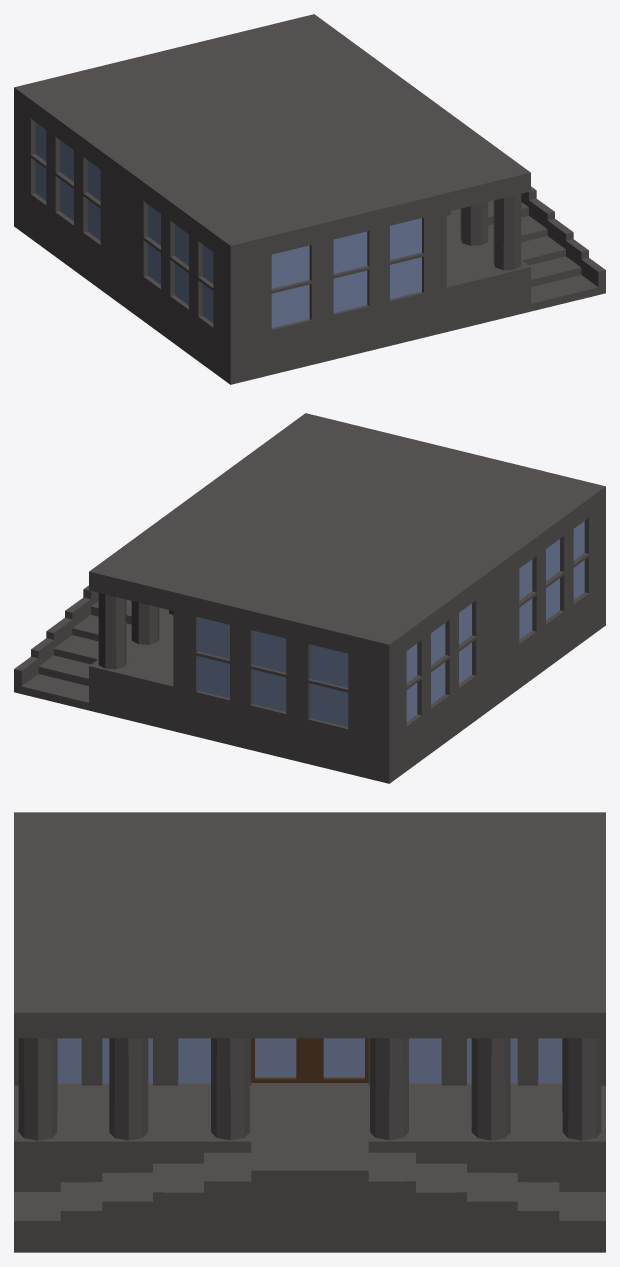
The model's file is Building1.fbx.
The picture shows the model from 3 angles, top to bottom: view 1: azimuth 30°, elevation 25°; view 2: azimuth 150°, elevation 25°; view 3: azimuth 270°, elevation 25°; orthographic projection. The views are drawn at different scales.
Visible parts, largest first — view 1: pCylinder4; view 2: pCylinder4; view 3: pCylinder4.
Part boxes in pixels (x1,y1,x2,y2): pCylinder4: [14, 14, 605, 384]; pCylinder4: [14, 413, 605, 783]; pCylinder4: [14, 812, 605, 1252].
Bounding box in the file's own units: 9.99 × 3.53 × 9.98.
